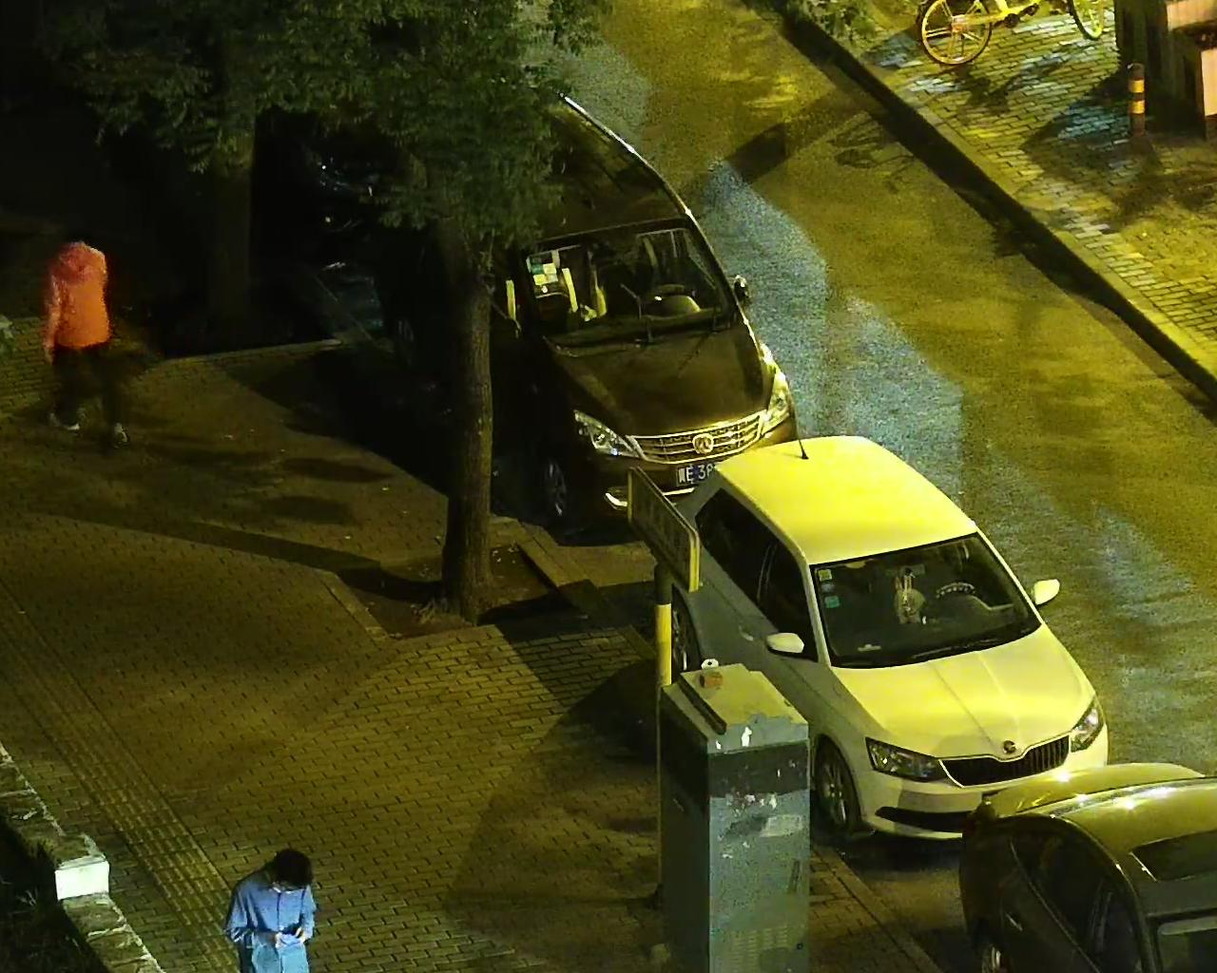person: (29, 205, 123, 446), (218, 846, 313, 973)
